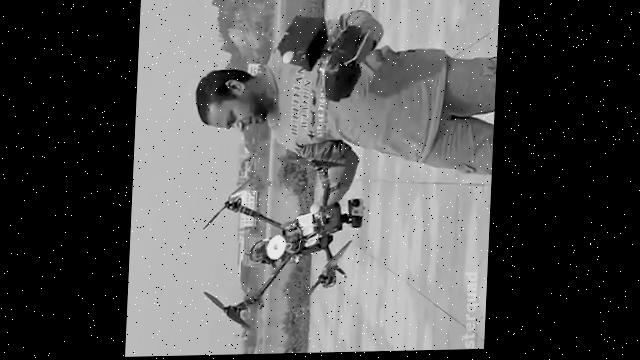drone: (197, 157, 370, 333)
